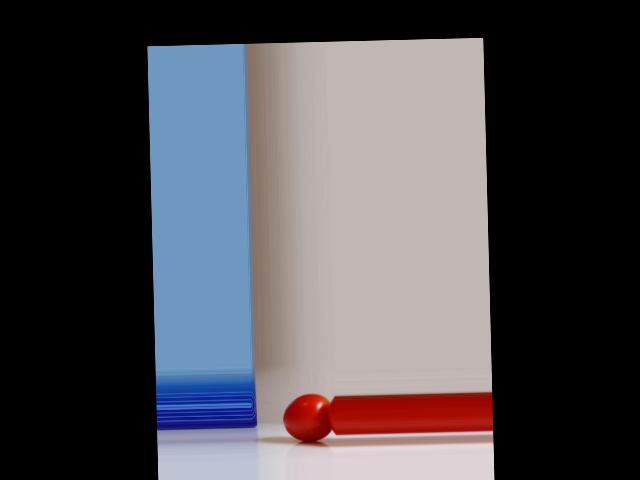tomato: (282, 393, 330, 442)
